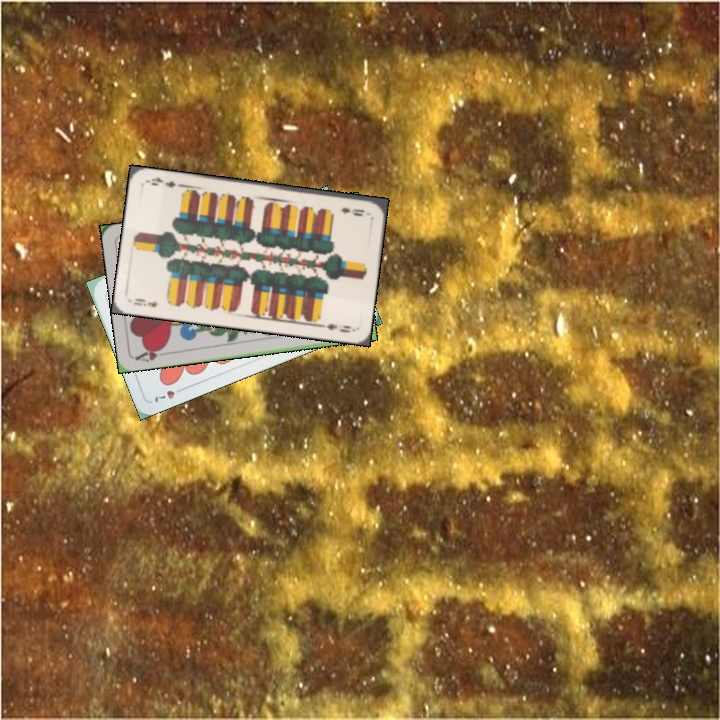E9: (129, 294, 161, 310), (337, 203, 367, 219)
H7: (149, 383, 188, 406)
HA: (132, 342, 172, 365)
